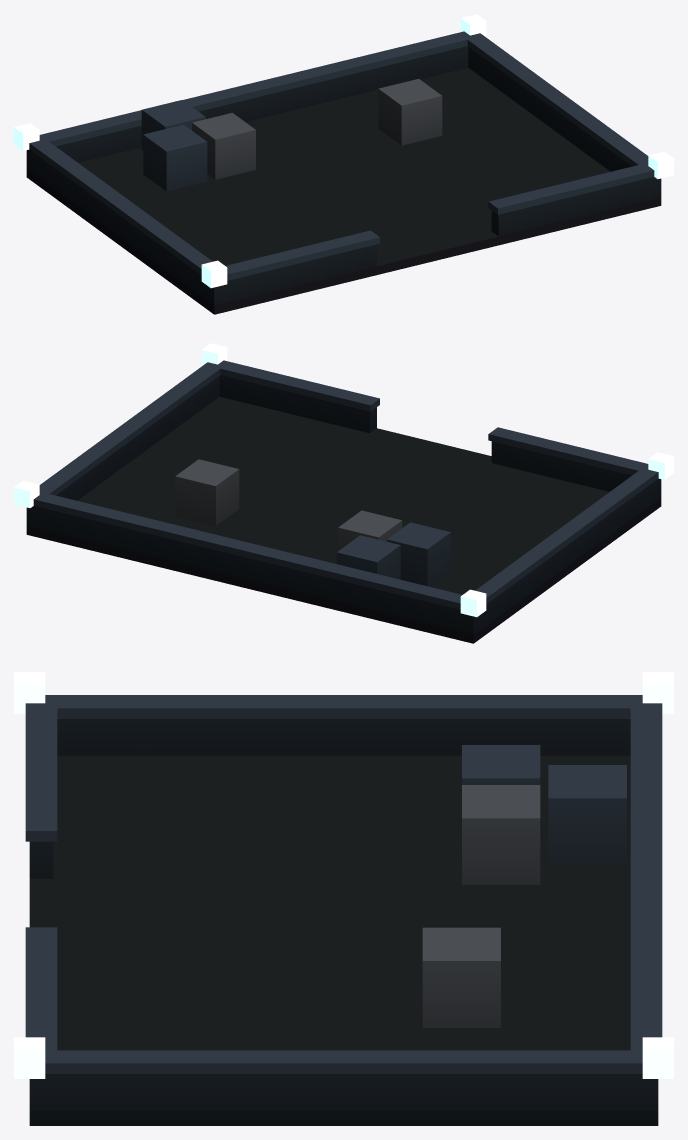
File: shaddai_dist_darkforest_b3_v01.glb
3 renders of one model, top to bottom at view 1: azimuth 30°, elevation 25°; view 2: azimuth 150°, elevation 25°; view 3: azimuth 270°, elevation 25°, orthographic. The views are drawn at different scales.
Visible parts, largest first — view 1: shaddai_dist_darkforest_b3; view 2: shaddai_dist_darkforest_b3; view 3: shaddai_dist_darkforest_b3.
Part boxes in pixels (<box>): shaddai_dist_darkforest_b3: <box>14,14,673,314</box>; shaddai_dist_darkforest_b3: <box>14,343,673,643</box>; shaddai_dist_darkforest_b3: <box>14,672,673,1125</box>.
Size of the model in its own units: 22.8 by 2.3 by 16.8.
